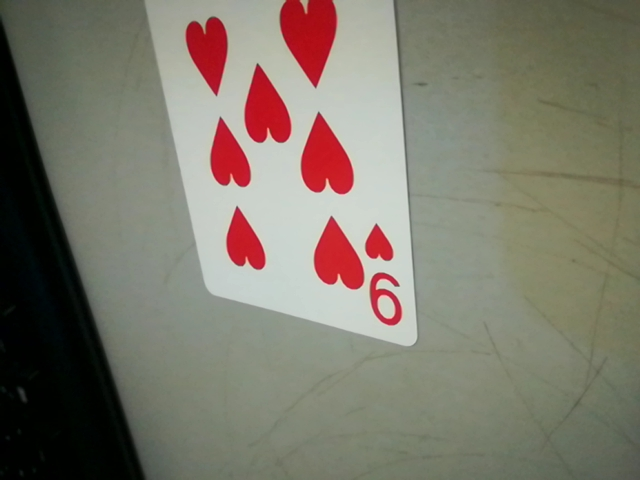hx 9: (359, 220, 413, 336)
